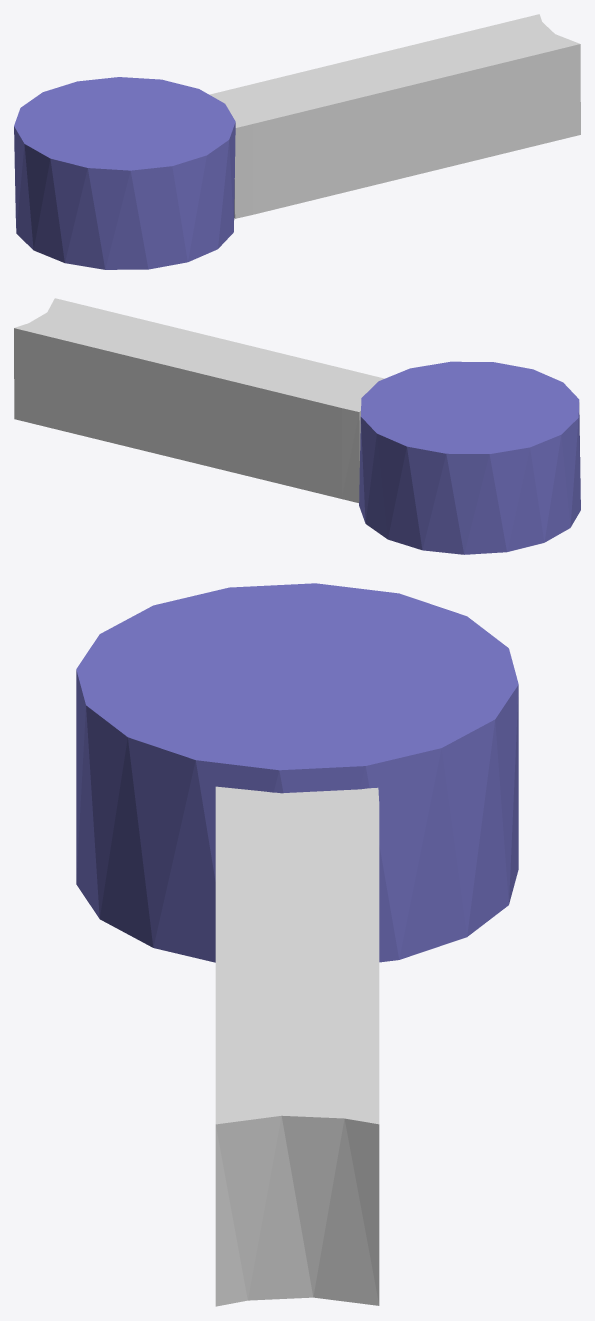
3 renders of one model, top to bottom at view 1: azimuth 30°, elevation 25°; view 2: azimuth 150°, elevation 25°; view 3: azimuth 270°, elevation 25°, orthographic. The views are drawn at different scales.
Visible parts, largest first — view 1: Link2_001; view 2: Link2_001; view 3: Link2_001.
Boxes of the visible parts, x1,y1,x2,y2 form: Link2_001: (14, 14, 580, 269); Link2_001: (14, 298, 580, 554); Link2_001: (76, 583, 518, 1306).
Bounding box in the file's own units: 0.6435 × 0.232 × 0.1184.
